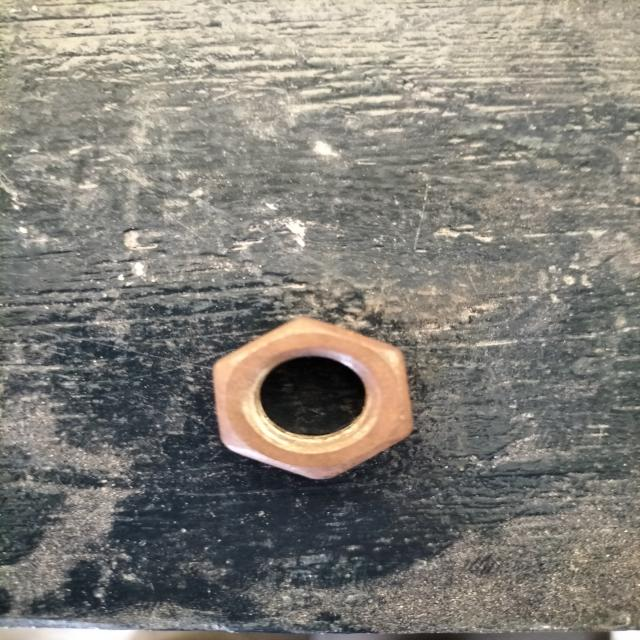nuts: (212, 319, 414, 479)
